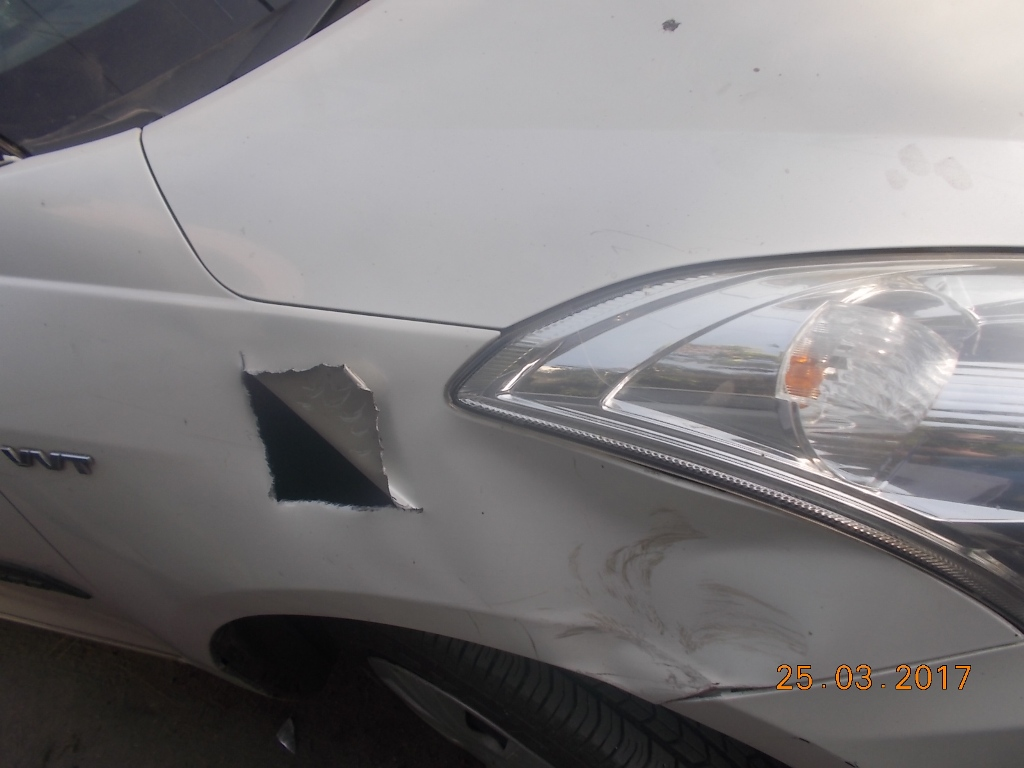Tear: (234, 343, 429, 546)
